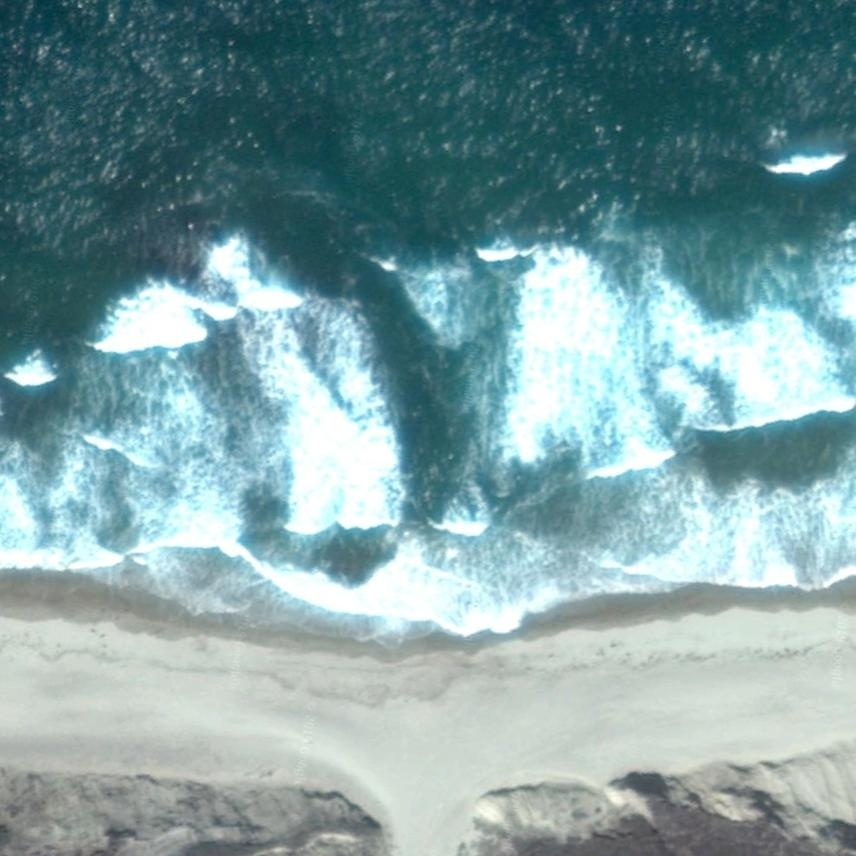rip_current: (315, 211, 585, 588)
